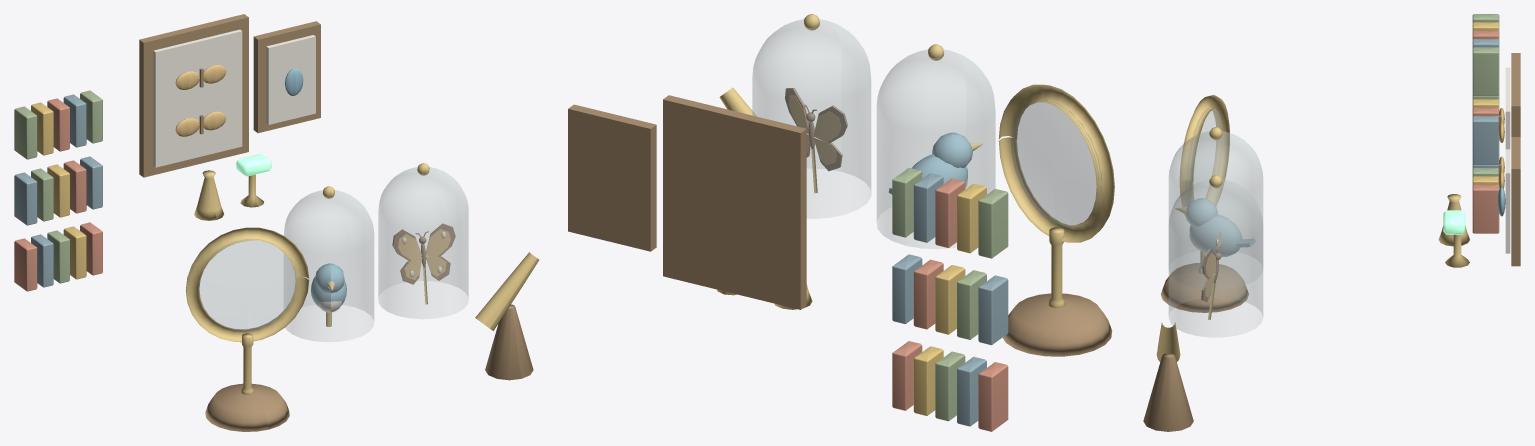
File: attention_instruments.glb
The picture shows the model from 3 angles, left to right: view 1: azimuth 30°, elevation 25°; view 2: azimuth 150°, elevation 25°; view 3: azimuth 270°, elevation 25°; orthographic projection. The views are drawn at different scales.
Visible parts, largest first — view 1: Attention_Static_Instruments, Magnifier_Lens_Head, Butterfly_Wing_Panels (×2), Magnifier_Stand_Post; view 2: Attention_Static_Instruments, Magnifier_Lens_Head, Butterfly_Wing_Panels (×2), Magnifier_Stand_Post; view 3: Attention_Static_Instruments, Magnifier_Lens_Head, Butterfly_Wing_Panels.
Boxes of the visible parts, x1,y1,x2,y2 form: Attention_Static_Instruments: (14, 14, 539, 431); Magnifier_Lens_Head: (185, 227, 309, 342); Butterfly_Wing_Panels (×2): (392, 223, 455, 284); Magnifier_Stand_Post: (241, 333, 253, 394); Attention_Static_Instruments: (568, 14, 1112, 431); Magnifier_Lens_Head: (998, 84, 1114, 242); Butterfly_Wing_Panels (×2): (785, 88, 847, 171); Magnifier_Stand_Post: (1048, 227, 1065, 307); Attention_Static_Instruments: (1143, 14, 1520, 431); Magnifier_Lens_Head: (1179, 94, 1229, 216); Butterfly_Wing_Panels: (1201, 248, 1215, 302).
Size of the model in its own units: 2.78 by 1.86 by 2.39.
